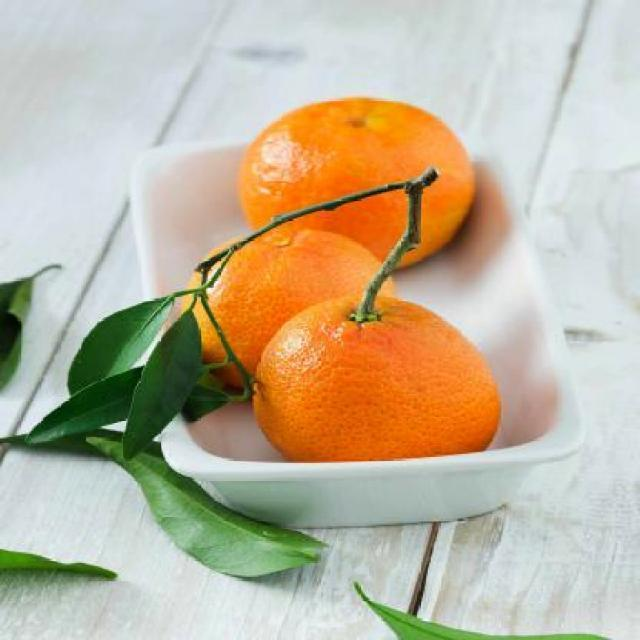Jeruk Sudah Matang: (246, 276, 506, 478), (231, 93, 477, 270), (171, 229, 397, 391)
